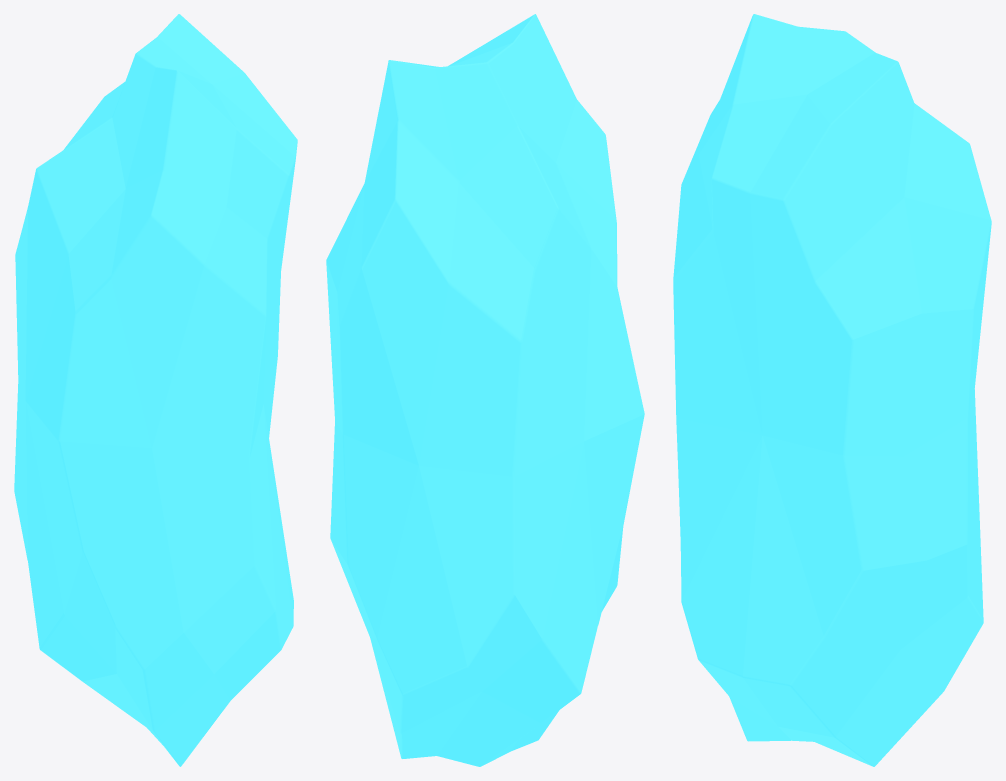
File: SpecterShardBlue.fbx
3 renders of one model, left to right at view 1: azimuth 30°, elevation 25°; view 2: azimuth 150°, elevation 25°; view 3: azimuth 270°, elevation 25°, orthographic. The views are drawn at different scales.
Parts seen in each view (by area): view 1: Cube; view 2: Cube; view 3: Cube.
Boxes of the visible parts, box(x1,y1,x2,y2) form: Cube: box(14, 14, 297, 766); Cube: box(326, 14, 644, 766); Cube: box(673, 14, 991, 766).
Bounding box in the file's own units: 214 × 539 × 214.
